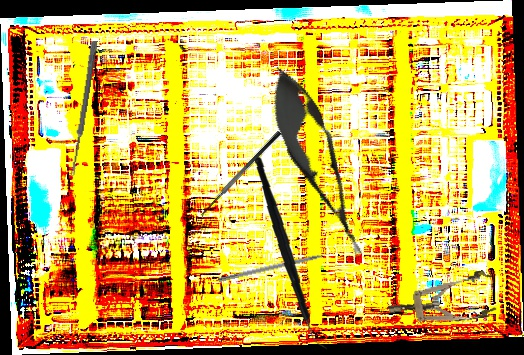Chopper: (245, 156, 337, 352)
Hook Surgical: (217, 248, 343, 284)
Micro Scissor: (253, 57, 384, 268)
Spatula Surgical: (196, 129, 289, 223)
Speculum: (384, 268, 499, 333)
Surgical Spoon: (69, 40, 98, 177)
